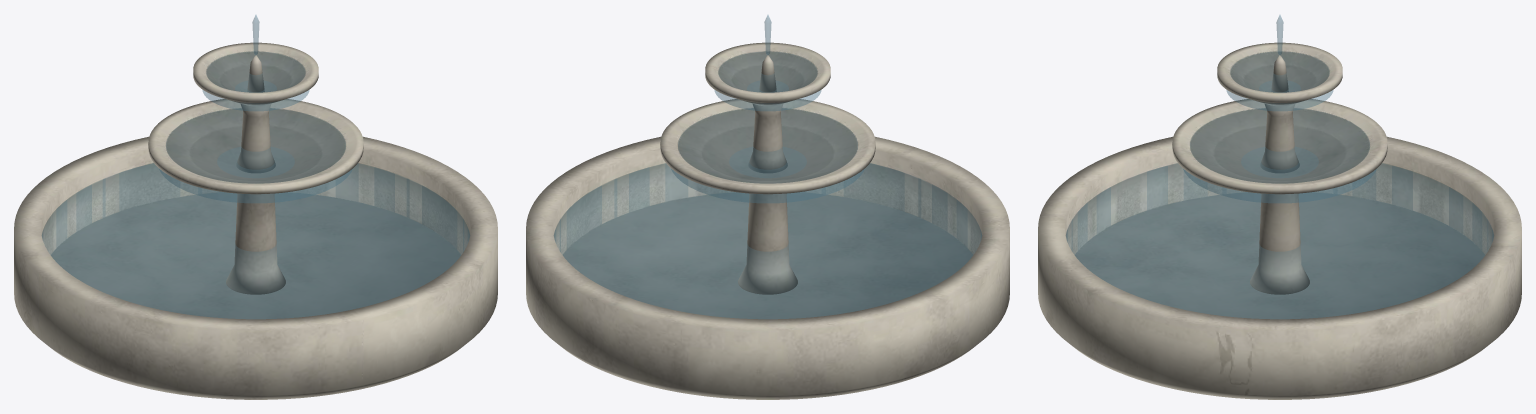
Rendered from two-tier.glb.
3 views of the same model, side by side, from view 1: azimuth 30°, elevation 25°; view 2: azimuth 150°, elevation 25°; view 3: azimuth 270°, elevation 25° (orthographic).
Parts seen in each view (by area): view 1: fountain_stone, water; view 2: fountain_stone, water; view 3: fountain_stone, water.
Part boxes in pixels (x1,y1,x2,y2): fountain_stone: (14, 42, 497, 399); water: (42, 15, 469, 318); fountain_stone: (526, 42, 1009, 399); water: (554, 15, 981, 318); fountain_stone: (1038, 42, 1521, 399); water: (1066, 15, 1493, 318).
Size of the model in its own units: 2.7 by 1.77 by 2.7.
2 materials, 1 textured.
